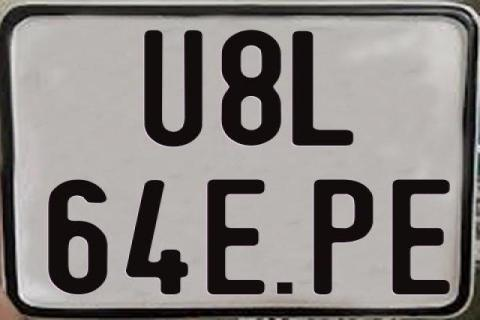0: (125, 180, 190, 298), (218, 29, 282, 145), (47, 177, 111, 293)
E: (205, 177, 267, 293), (392, 179, 450, 299)
L: (290, 31, 357, 149)
P: (312, 180, 376, 300)
U: (141, 29, 199, 147)
